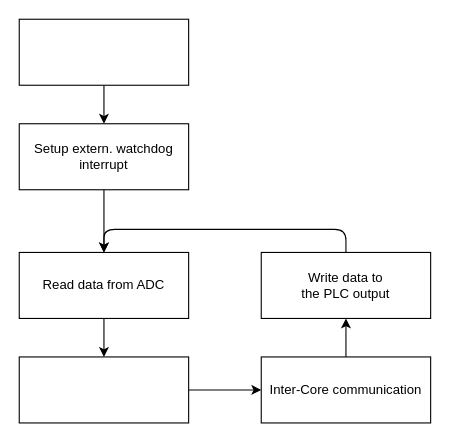
The diagram is 450 pixels wide and 442 high, and some of its shapes have lost their labels. Each missing label, with the centre of its shape:
Decode data & Evaluate state: the point at 103,389
Run Initialization Test Sequence (Includes peripherial setup): the point at 103,51
